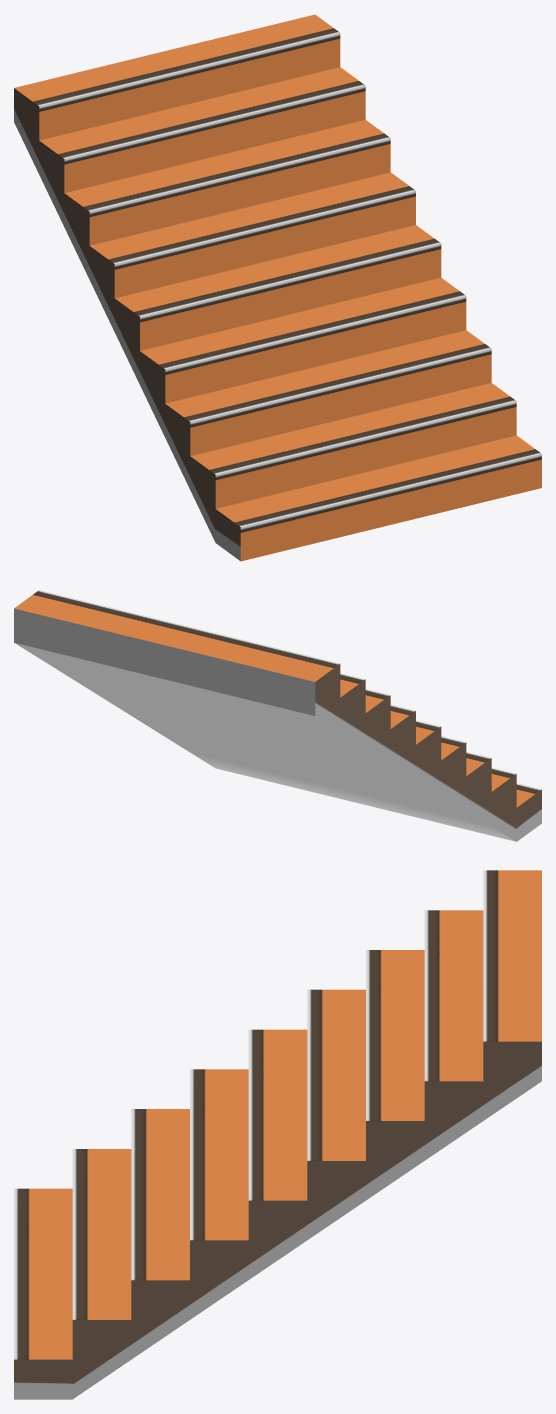
The model's file is Stairs_Model.fbx.
3 views of the same model, one above another, from view 1: azimuth 30°, elevation 25°; view 2: azimuth 150°, elevation 25°; view 3: azimuth 270°, elevation 25° (orthographic). The views are drawn at different scales.
Parts seen in each view (by area): view 1: Box001; view 2: Box001; view 3: Box001.
Boxes of the visible parts, box(x1,y1,x2,y2) form: Box001: box(14, 14, 541, 561); Box001: box(14, 590, 541, 841); Box001: box(14, 870, 541, 1399).
Size of the model in its own units: 230 by 224 by 300.
Materials: 1 (1 with a texture image).
